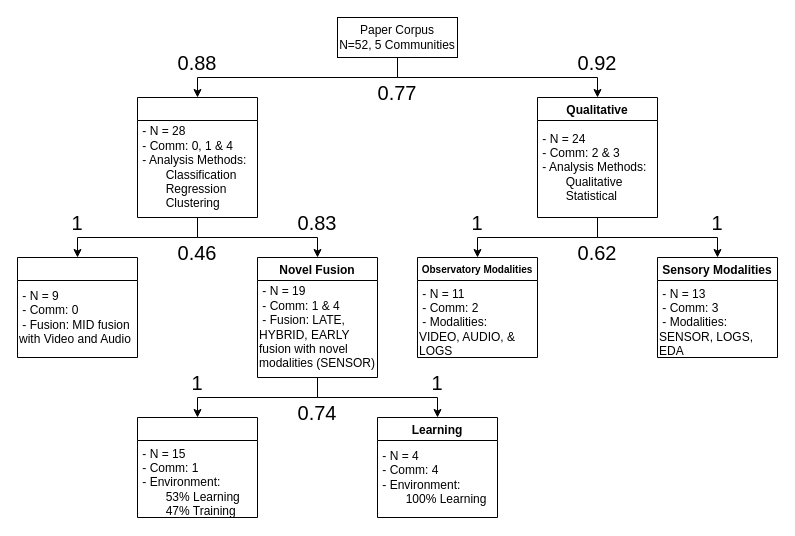
Image size: 795x536. Some labels were removed from this diagram. The box of each missing label's shape, as (x1, y1, x2, y2) in pixels:
Learning + Training: (136, 416, 258, 518)
Quantitative: (136, 96, 258, 218)
Traditional Fusion: (16, 256, 138, 358)
